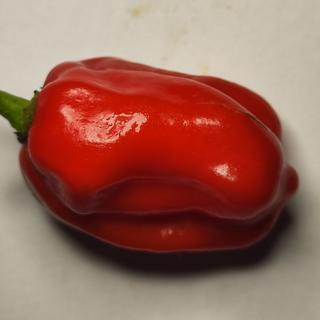Grade-A: (10, 43, 303, 257)
